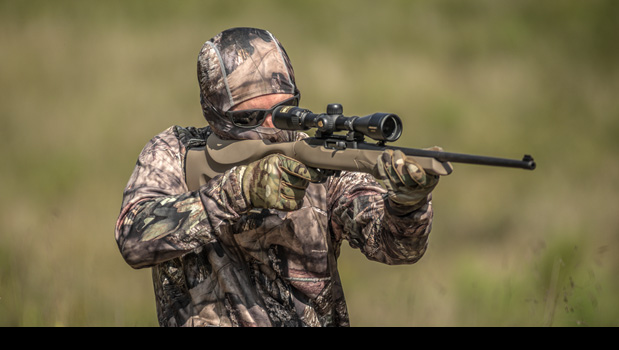Gun: (284, 103, 475, 178)
